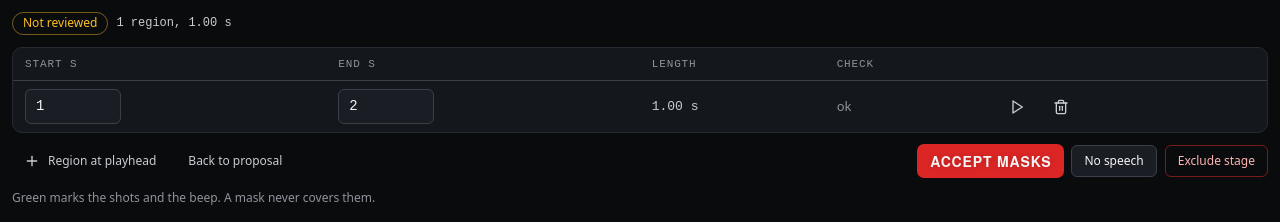
SpeechPanel › saves the proposal as accepted masks
The width and height of the screenshot is (1280, 222).
Check: the text "Not reviewed" is shown, box [12,12,108,35]
Click the button "Accept masks" at (991, 161), box [918,145,1063,177]
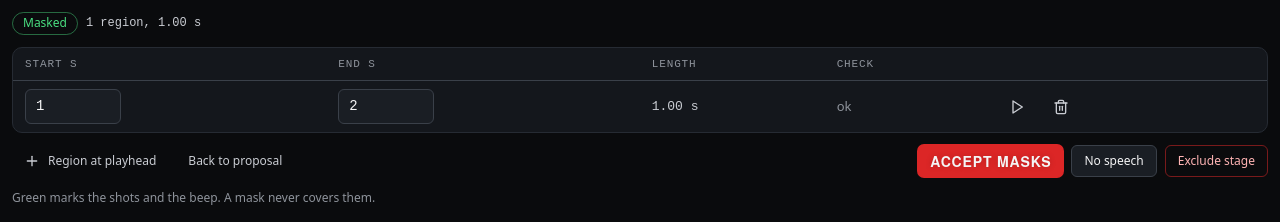
Check: the text "Masked" is shown, box [12,12,78,35]
